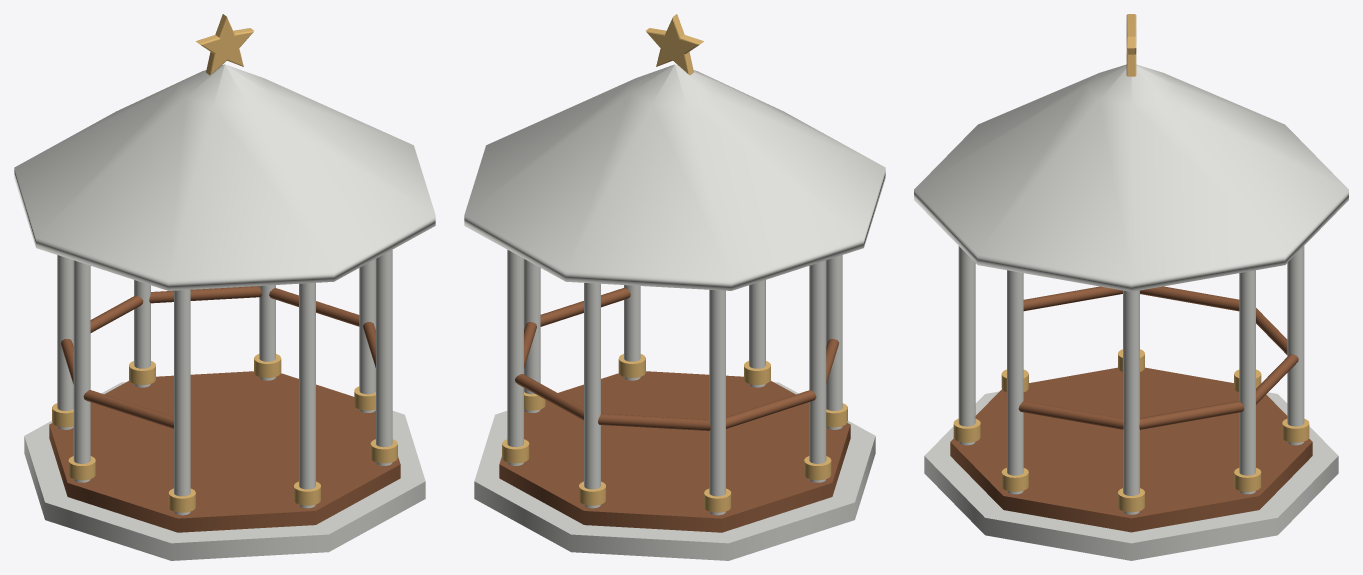
File: christmas-storybook-winter-gazebo-ffe82bca__18689.glb
3 views of the same model, side by side, from view 1: azimuth 30°, elevation 25°; view 2: azimuth 150°, elevation 25°; view 3: azimuth 270°, elevation 25° (orthographic).
Visible parts, largest first — view 1: cream, oak, brass; view 2: cream, oak, brass; view 3: cream, oak, brass.
Boxes of the visible parts, bbox=[...] form: cream: bbox=[14, 64, 435, 560]; oak: bbox=[49, 286, 400, 532]; brass: bbox=[52, 14, 397, 512]; cream: bbox=[464, 64, 885, 560]; oak: bbox=[499, 287, 850, 532]; brass: bbox=[502, 14, 847, 512]; cream: bbox=[914, 64, 1348, 560]; oak: bbox=[950, 286, 1312, 532]; brass: bbox=[953, 14, 1309, 512].
Size of the model in its own units: 3.36 by 3.92 by 3.36.
